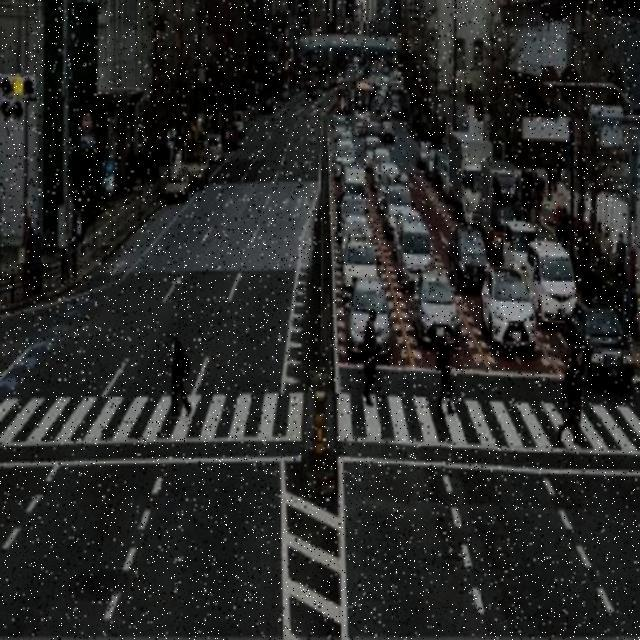crosswalk: (0, 386, 638, 475)
